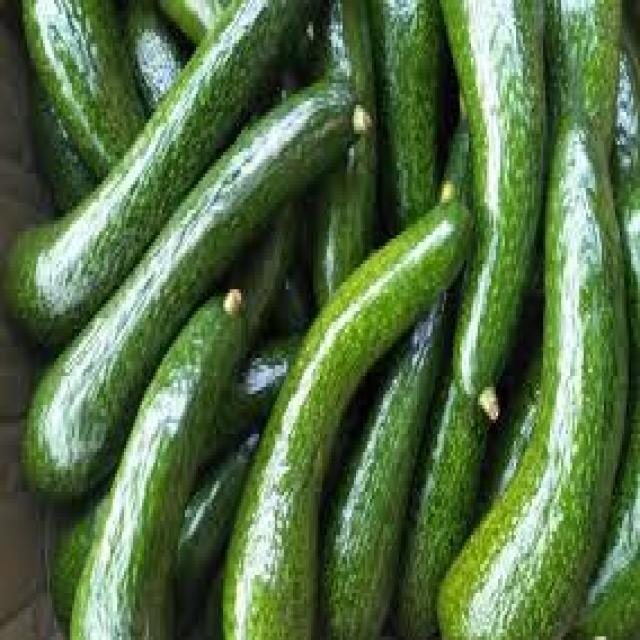Bo: (19, 66, 364, 508), (219, 192, 485, 636), (435, 110, 632, 636), (2, 4, 304, 338), (66, 291, 259, 636), (437, 1, 553, 411), (371, 2, 449, 214)
